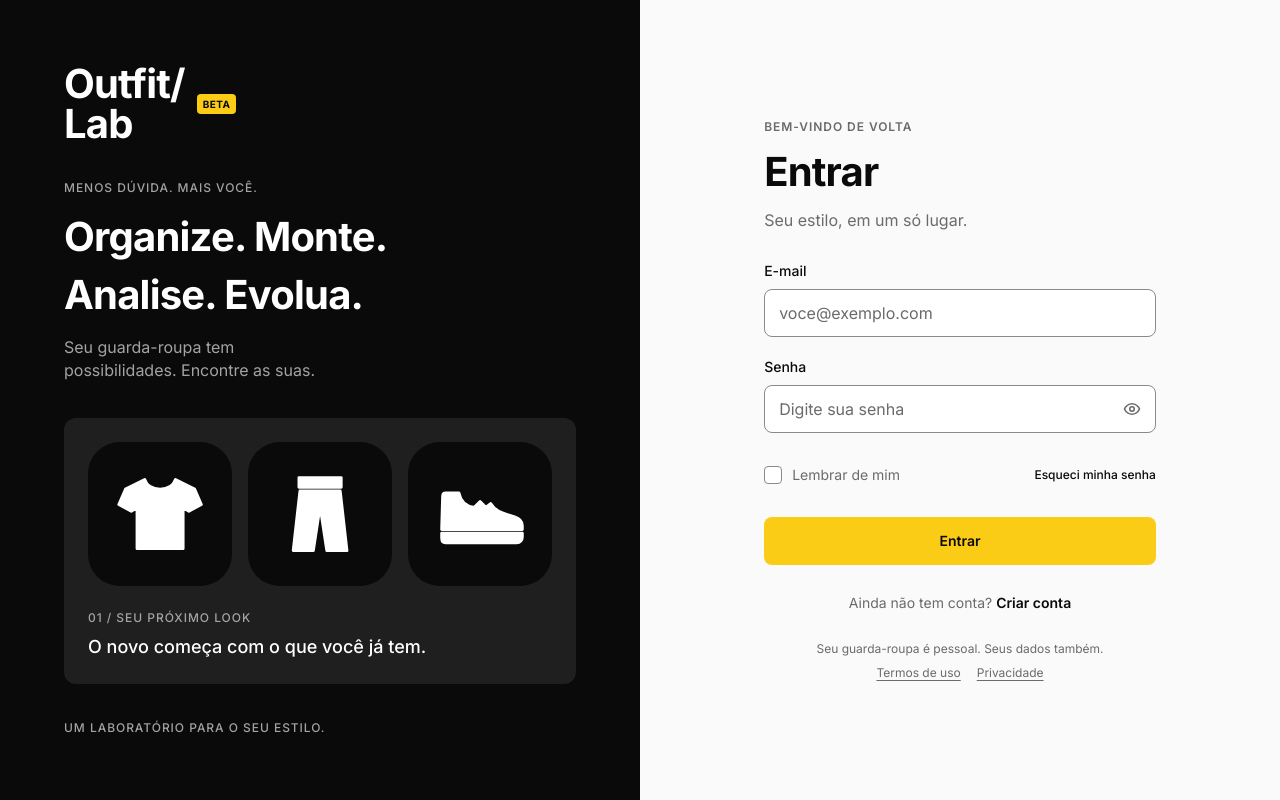
it: TELA-01 Login › credenciais inválidas (401): alerta com foco, e-mail mantido e senha limpa
Type "erro@exemplo.com" into the field labelled "E-mail" at [960, 313], box [764,289,1156,337]
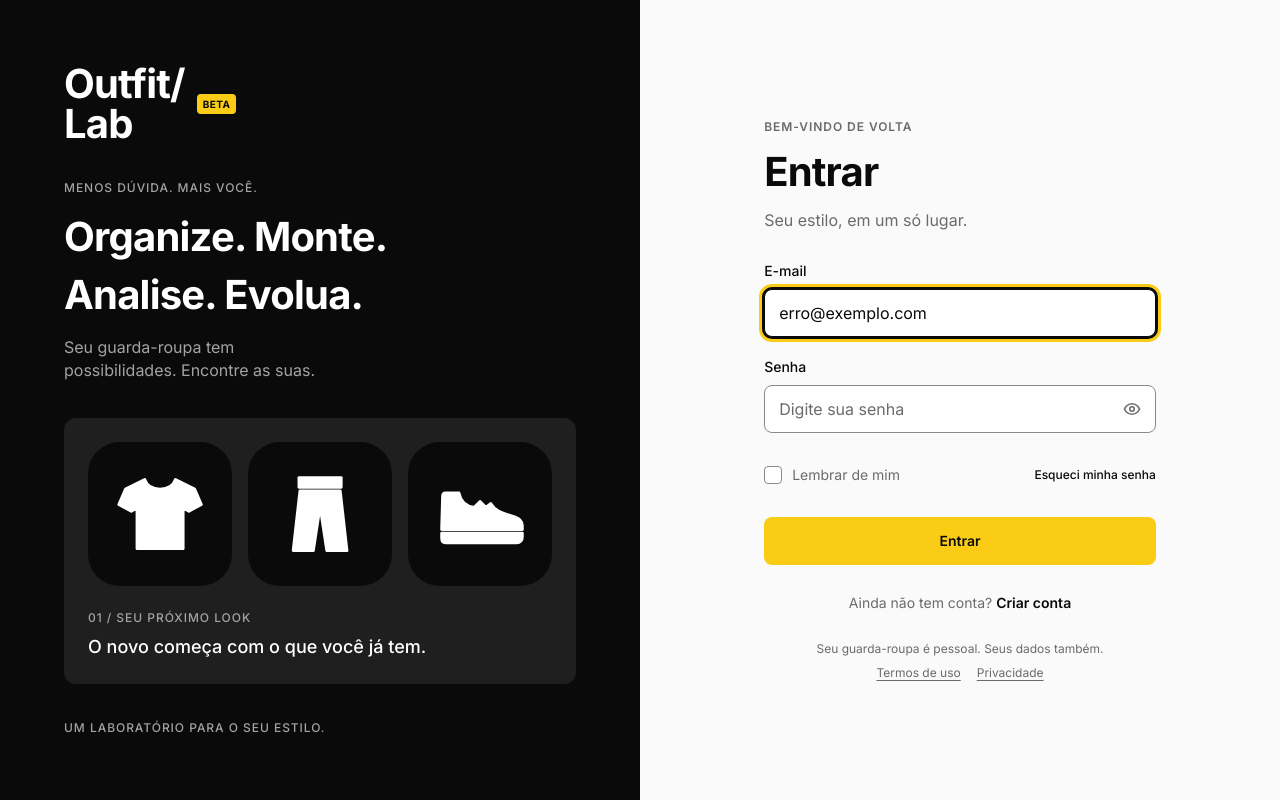
Type "Guarda2026" into the password field labelled "Senha" at [960, 409], box [764,385,1156,433]
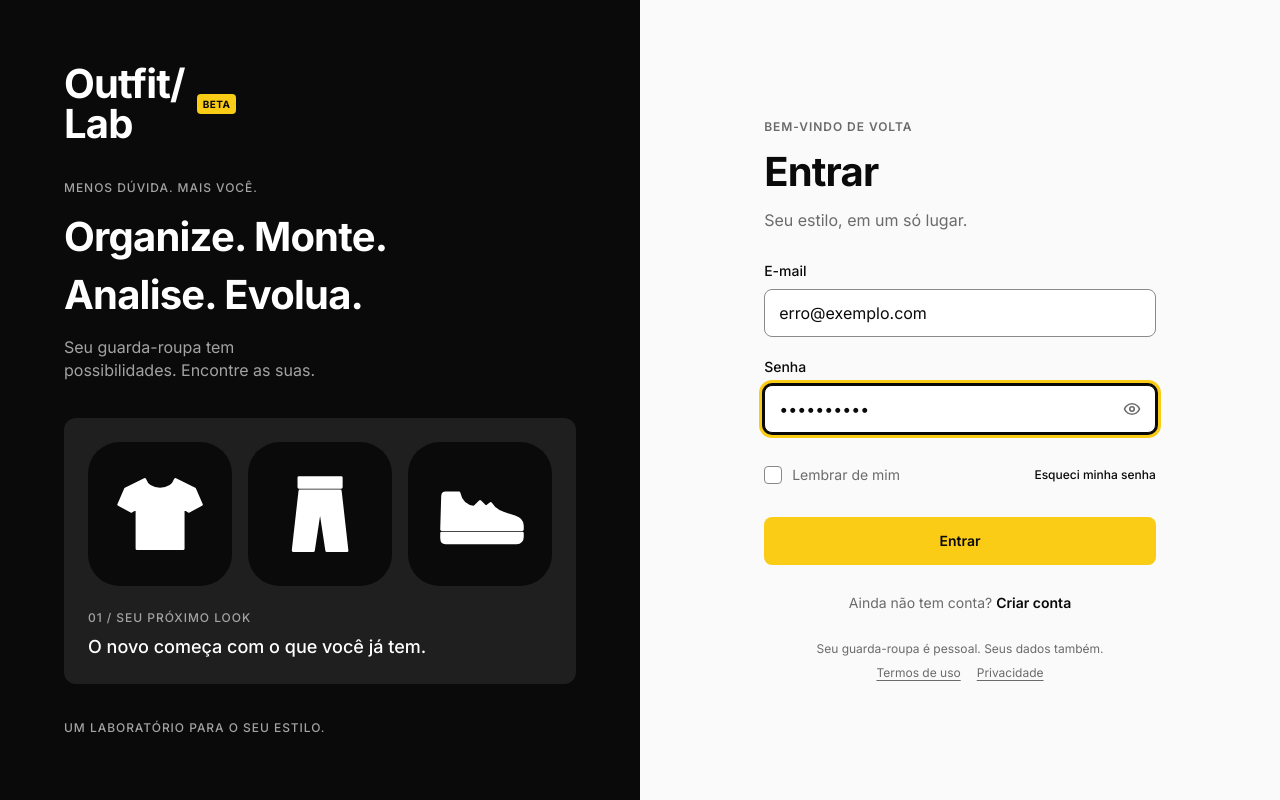
Click the button "Entrar" at [960, 541], box [764,517,1156,565]
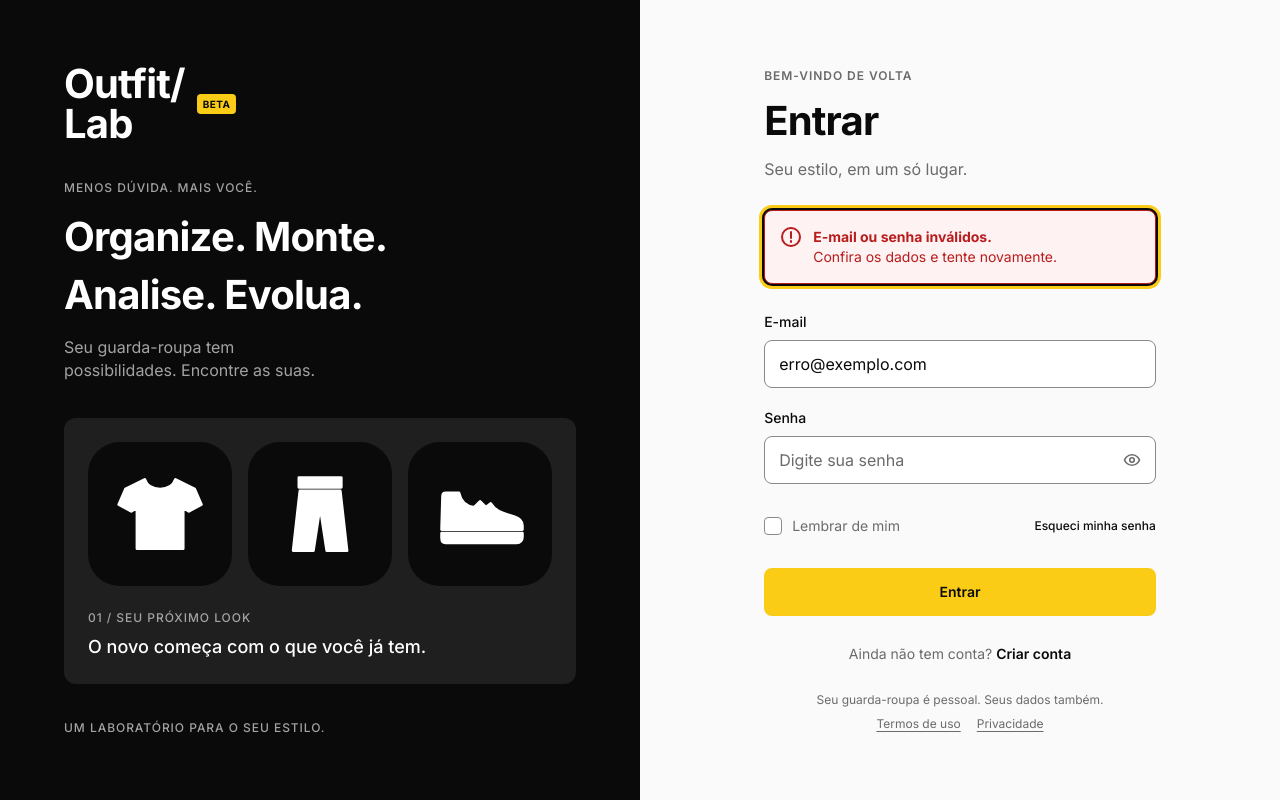
expect the message shows "E-mail ou senha inválidos.": met, box [813,228,992,245]
expect the message shows "Confira os dados e tente novamente.": met, box [813,248,1057,265]
expect the password field labelled "Senha" is empty: met, box [764,436,1156,484]
